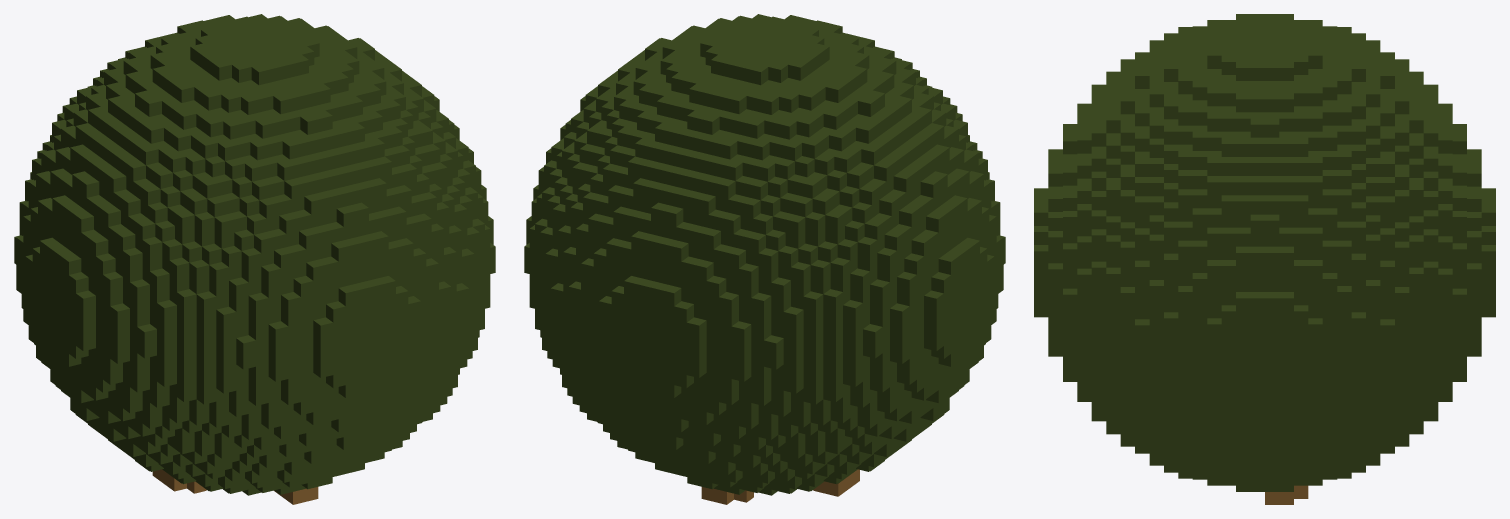
File: Tree-0.obj
3 views of the same model, side by side, from view 1: azimuth 30°, elevation 25°; view 2: azimuth 150°, elevation 25°; view 3: azimuth 270°, elevation 25° (orthographic).
Bounding box in the file's own units: 3.2 × 3.2 × 3.2.
Materials: 1 (1 with a texture image).
